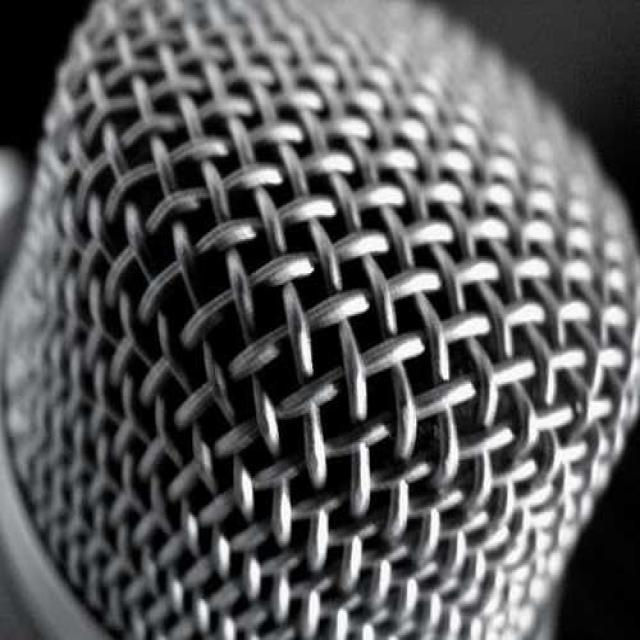microphone: (4, 5, 633, 639)
